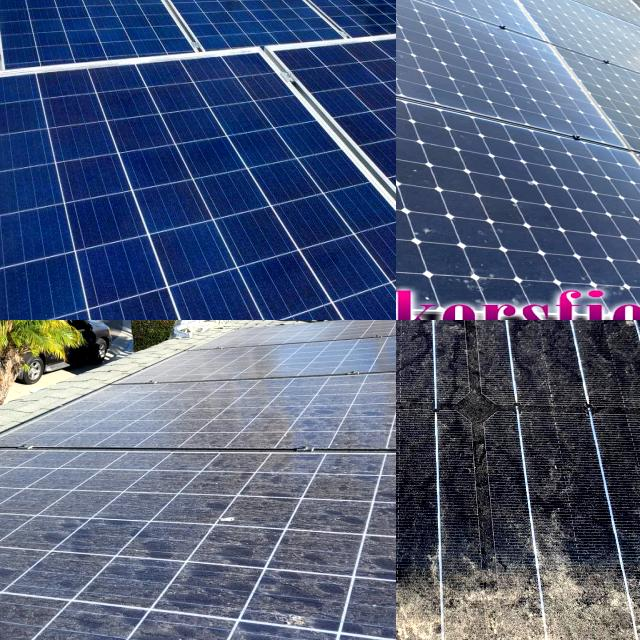crack: (0, 45, 396, 320), (0, 0, 199, 87), (133, 0, 349, 76), (255, 0, 396, 63), (0, 80, 52, 145)
dust: (396, 320, 640, 472), (396, 499, 538, 640), (396, 320, 512, 468), (51, 555, 233, 640), (56, 463, 223, 548), (260, 459, 396, 563), (396, 502, 490, 640), (559, 488, 640, 640), (260, 368, 396, 445), (512, 11, 628, 90), (257, 581, 396, 640), (91, 396, 232, 446), (231, 320, 396, 361), (0, 466, 60, 570), (0, 593, 55, 637)
